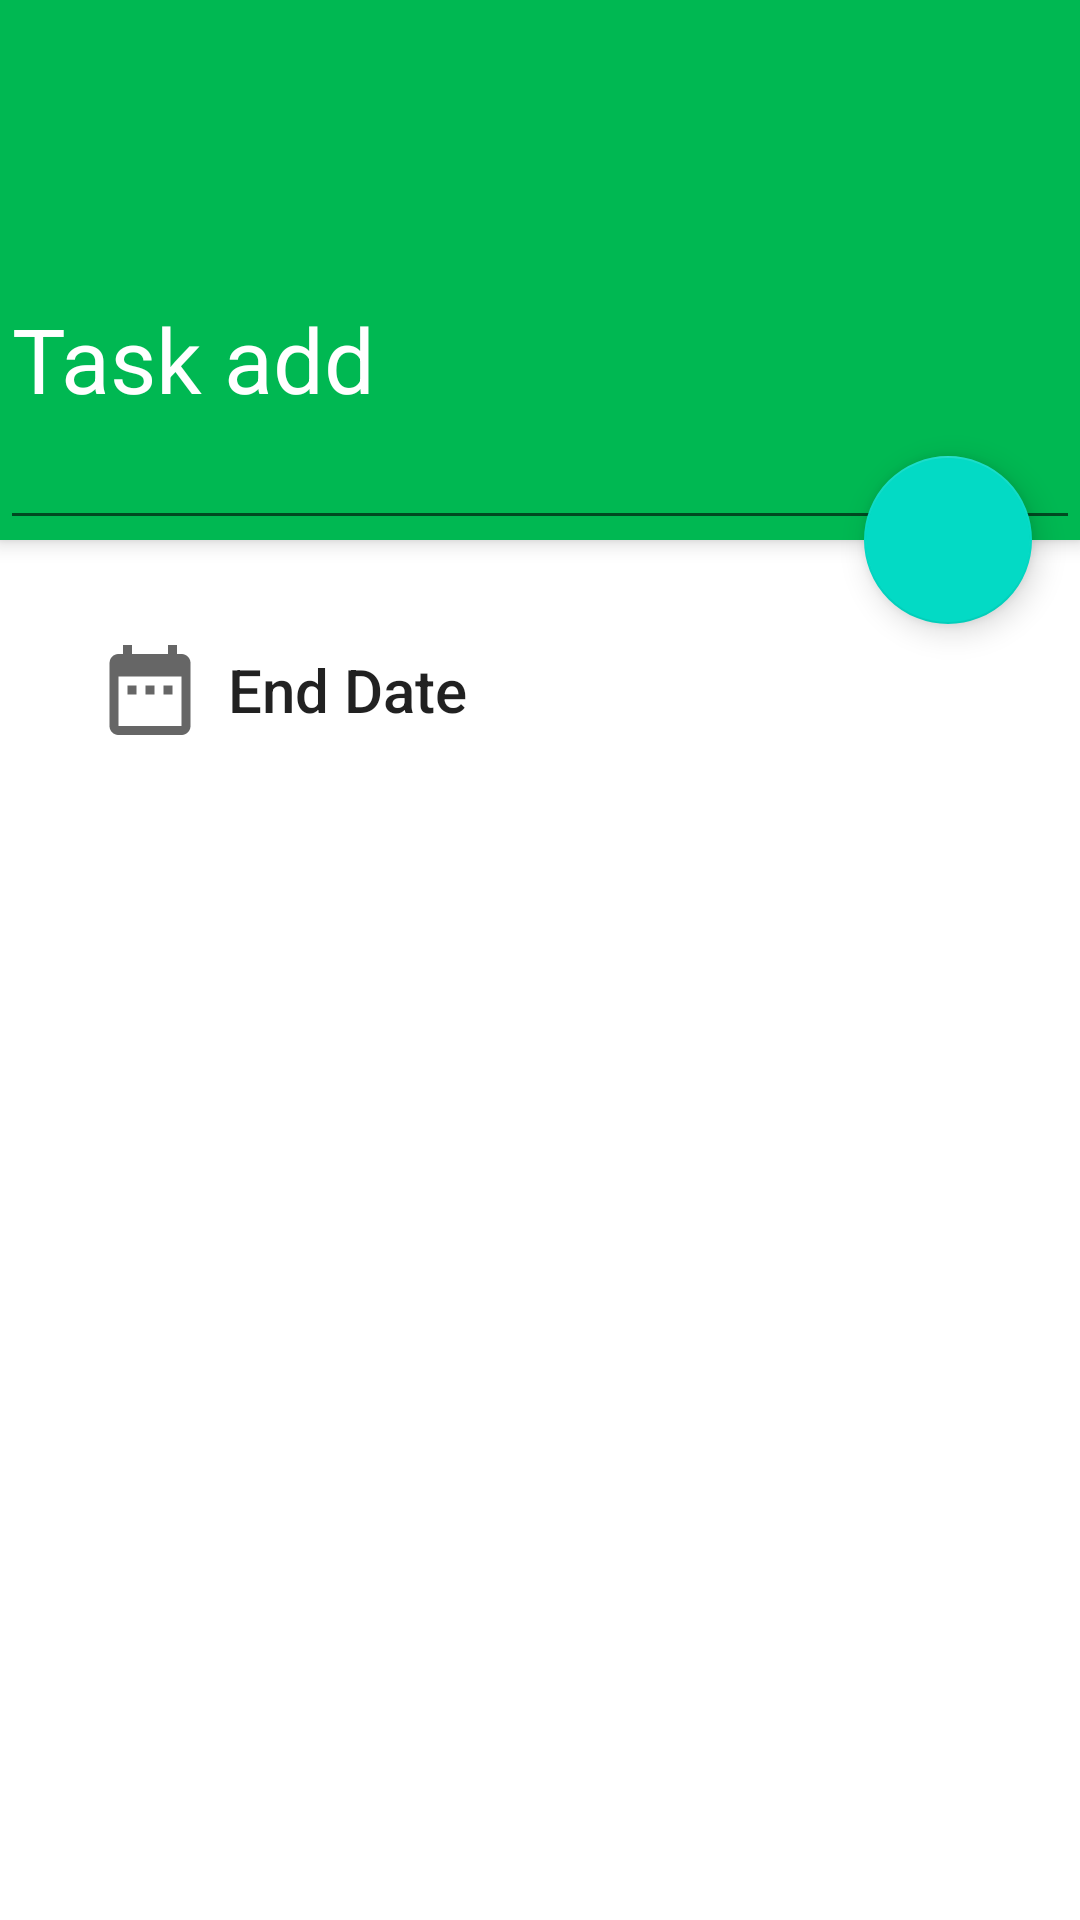

Where to tap for icons on this 1080 × 1920 app screen, as [x,y]:
date range: [150,690]
